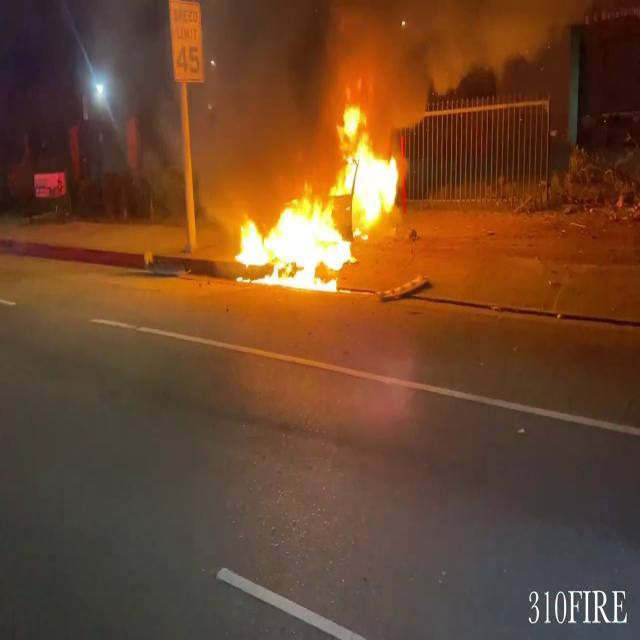Fire: (230, 95, 406, 292)
Smoke: (302, 0, 534, 123)
